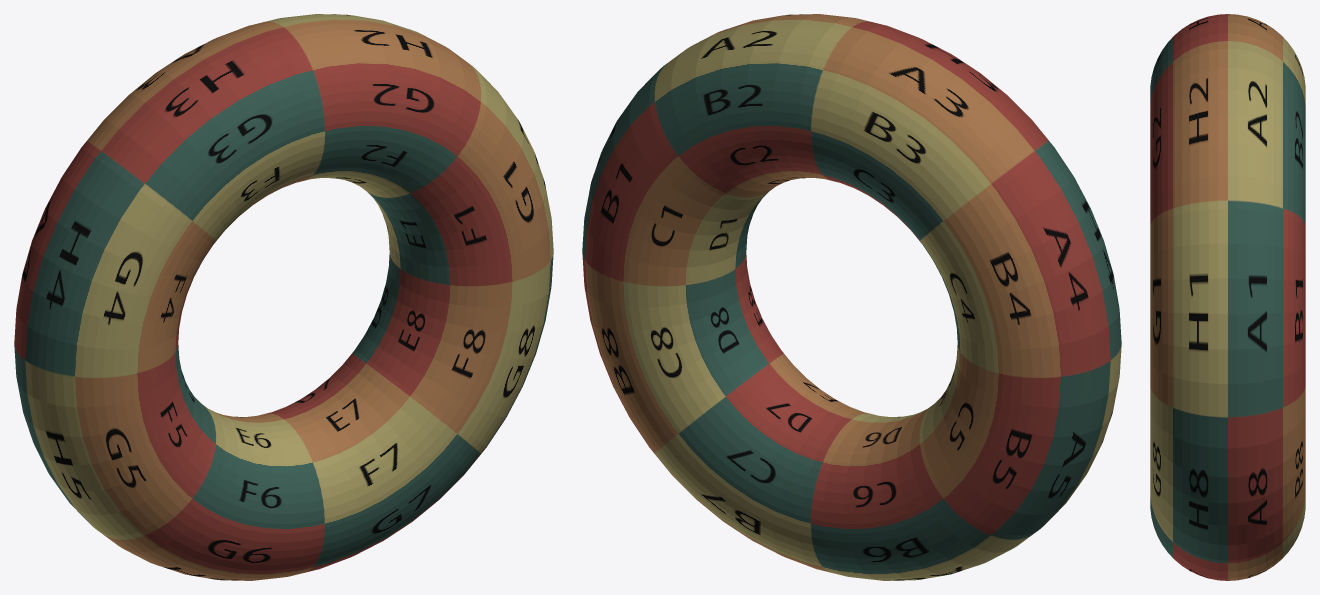
File: texture_torus_R13_r19.glb
The picture shows the model from 3 angles, left to right: view 1: azimuth 30°, elevation 25°; view 2: azimuth 150°, elevation 25°; view 3: azimuth 270°, elevation 25°; orthographic projection. The views are drawn at different scales.
Visible parts, largest first — view 1: world; view 2: world; view 3: world.
Part boxes in pixels (left/top/right/bottom): world: left=14, top=14, right=553, bottom=580; world: left=582, top=14, right=1121, bottom=580; world: left=1150, top=14, right=1305, bottom=580.
Bounding box in the file's own units: 25.73 × 25.68 × 7.05.
1 material, 1 textured.
